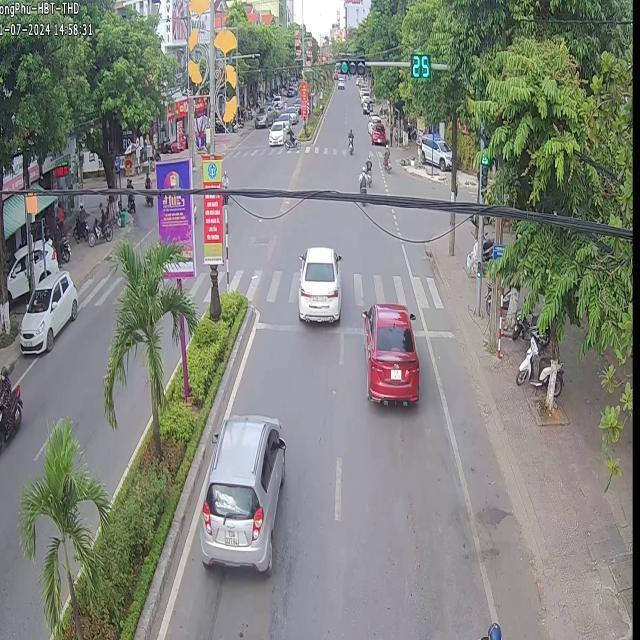car: (198, 414, 284, 574), (360, 302, 418, 401), (296, 245, 339, 320)
green_light: (338, 56, 364, 74), (479, 151, 487, 187)
motobike: (357, 165, 366, 190), (346, 127, 352, 154), (364, 156, 370, 181)
stop_line: (254, 319, 361, 334), (411, 326, 451, 335)
